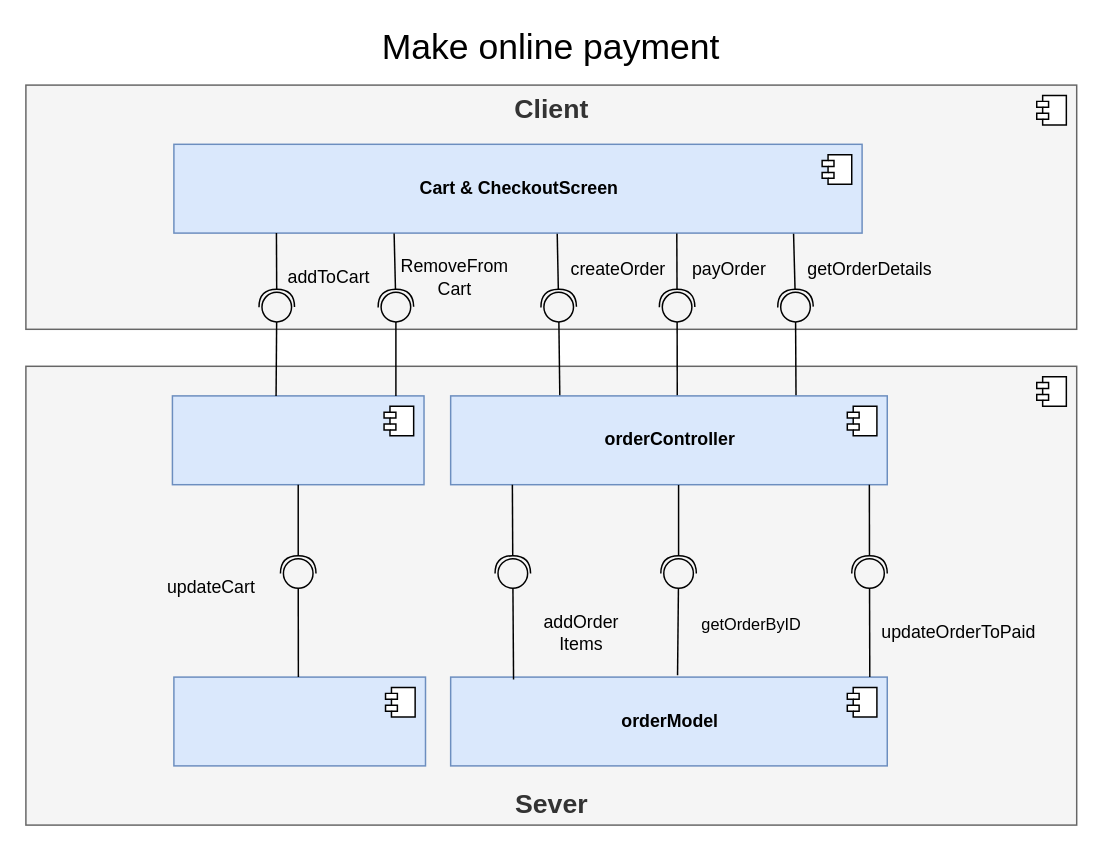
Image size: 1103x851. Some labels were removed from this diagram. Each missing label, with the centre of its shape:
"CartController" belongs at (297,439).
"cartModel" belongs at (299,721).
